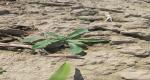osot: (17, 28, 108, 54)
